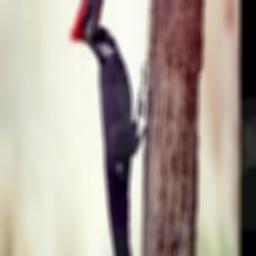Woodpecker: (70, 0, 148, 256)
